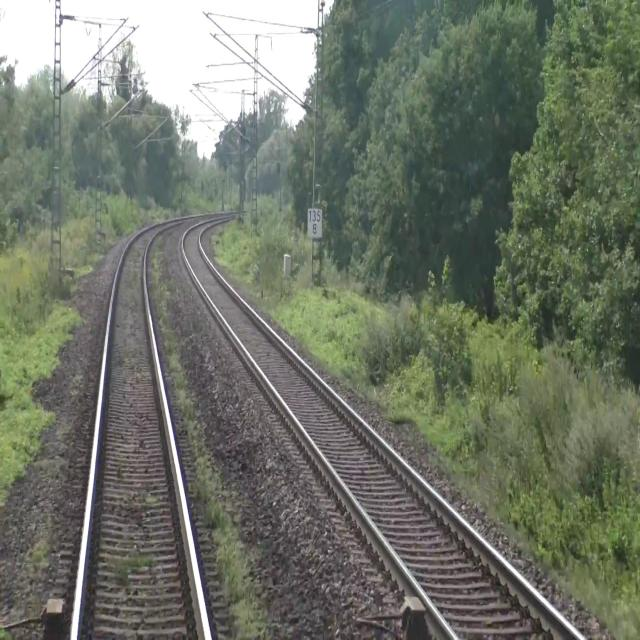rail-track: (183, 215, 579, 639), (76, 216, 205, 639)
